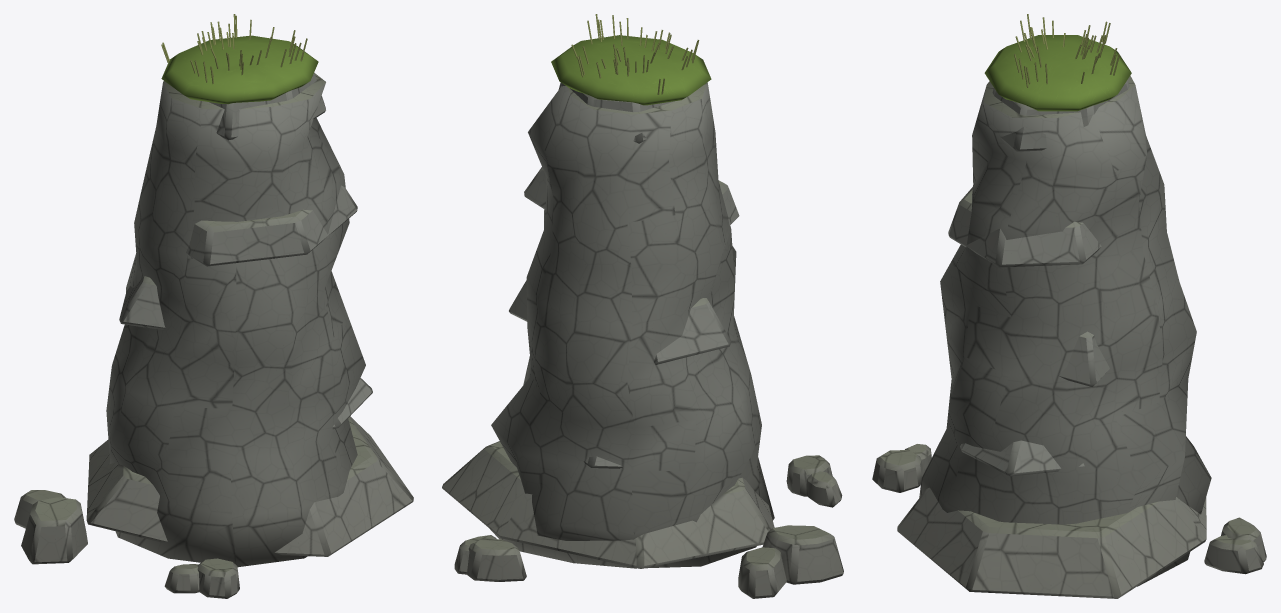
File: sea_stack_small.glb
3 renders of one model, left to right at view 1: azimuth 30°, elevation 25°; view 2: azimuth 150°, elevation 25°; view 3: azimuth 270°, elevation 25°, orthographic. The views are drawn at different scales.
Visible parts, largest first — view 1: sea_stack_small; view 2: sea_stack_small; view 3: sea_stack_small.
Boxes of the visible parts, box(x1,y1,x2,y2) form: sea_stack_small: box(14, 14, 413, 598); sea_stack_small: box(442, 14, 843, 598); sea_stack_small: box(872, 14, 1266, 598).
Size of the model in its own units: 5.14 by 6.43 by 4.58.
3 materials, 3 textured.
